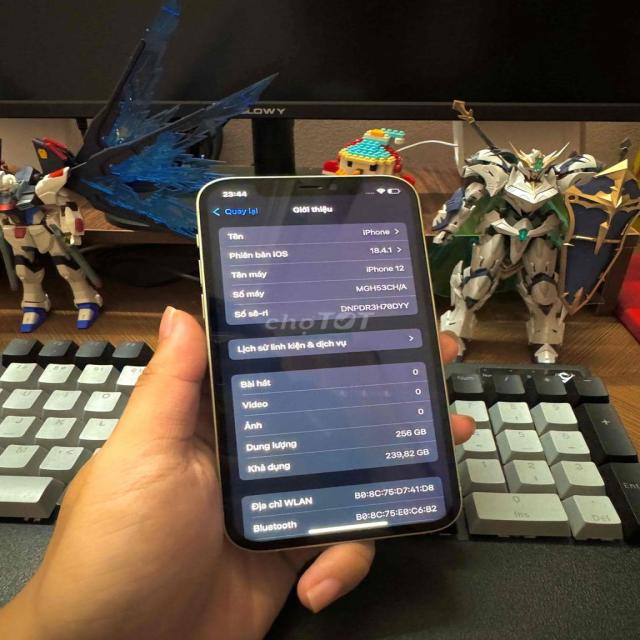gen_12_13: (192, 173, 464, 550)
